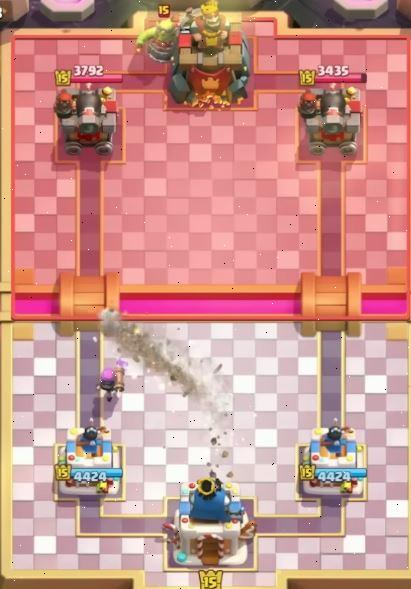ECannoneerTower: (298, 72, 366, 155), (55, 76, 121, 155)
EGoblindem: (137, 17, 178, 63)
EKingTower: (170, 0, 249, 108)
OFirecrack: (97, 360, 126, 402)
OwnKingTower: (164, 472, 254, 565)
OwnPrincessTower: (299, 420, 366, 496), (55, 426, 122, 496)
